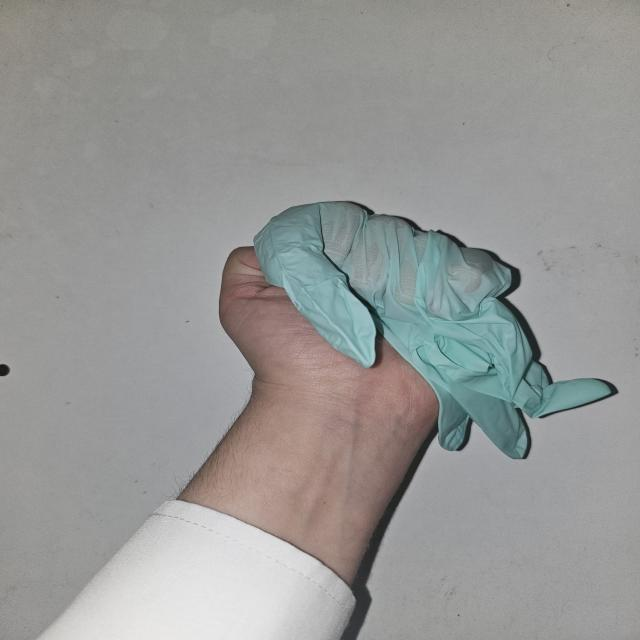glove_partial: (217, 201, 618, 462)
